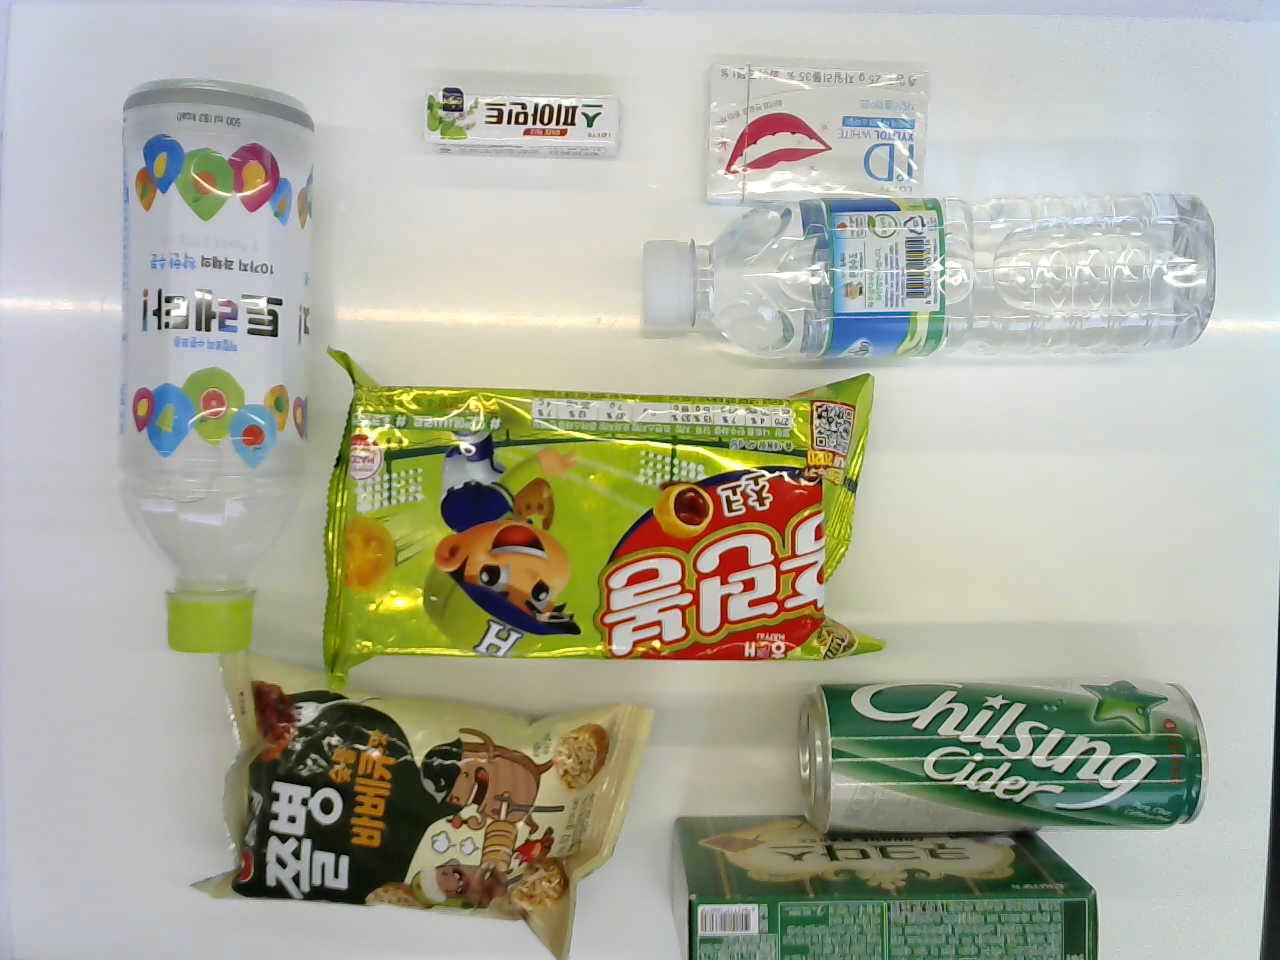ID_gum: (691, 54, 942, 197)
cidar: (796, 664, 1213, 839)
couque_coffee: (653, 807, 1102, 955)
homerunball: (321, 358, 886, 677)
jjolbyung_ori: (202, 664, 635, 954)
samdasu: (634, 189, 1217, 363)
spearmint: (413, 77, 626, 171)
toreta: (105, 61, 321, 674)
